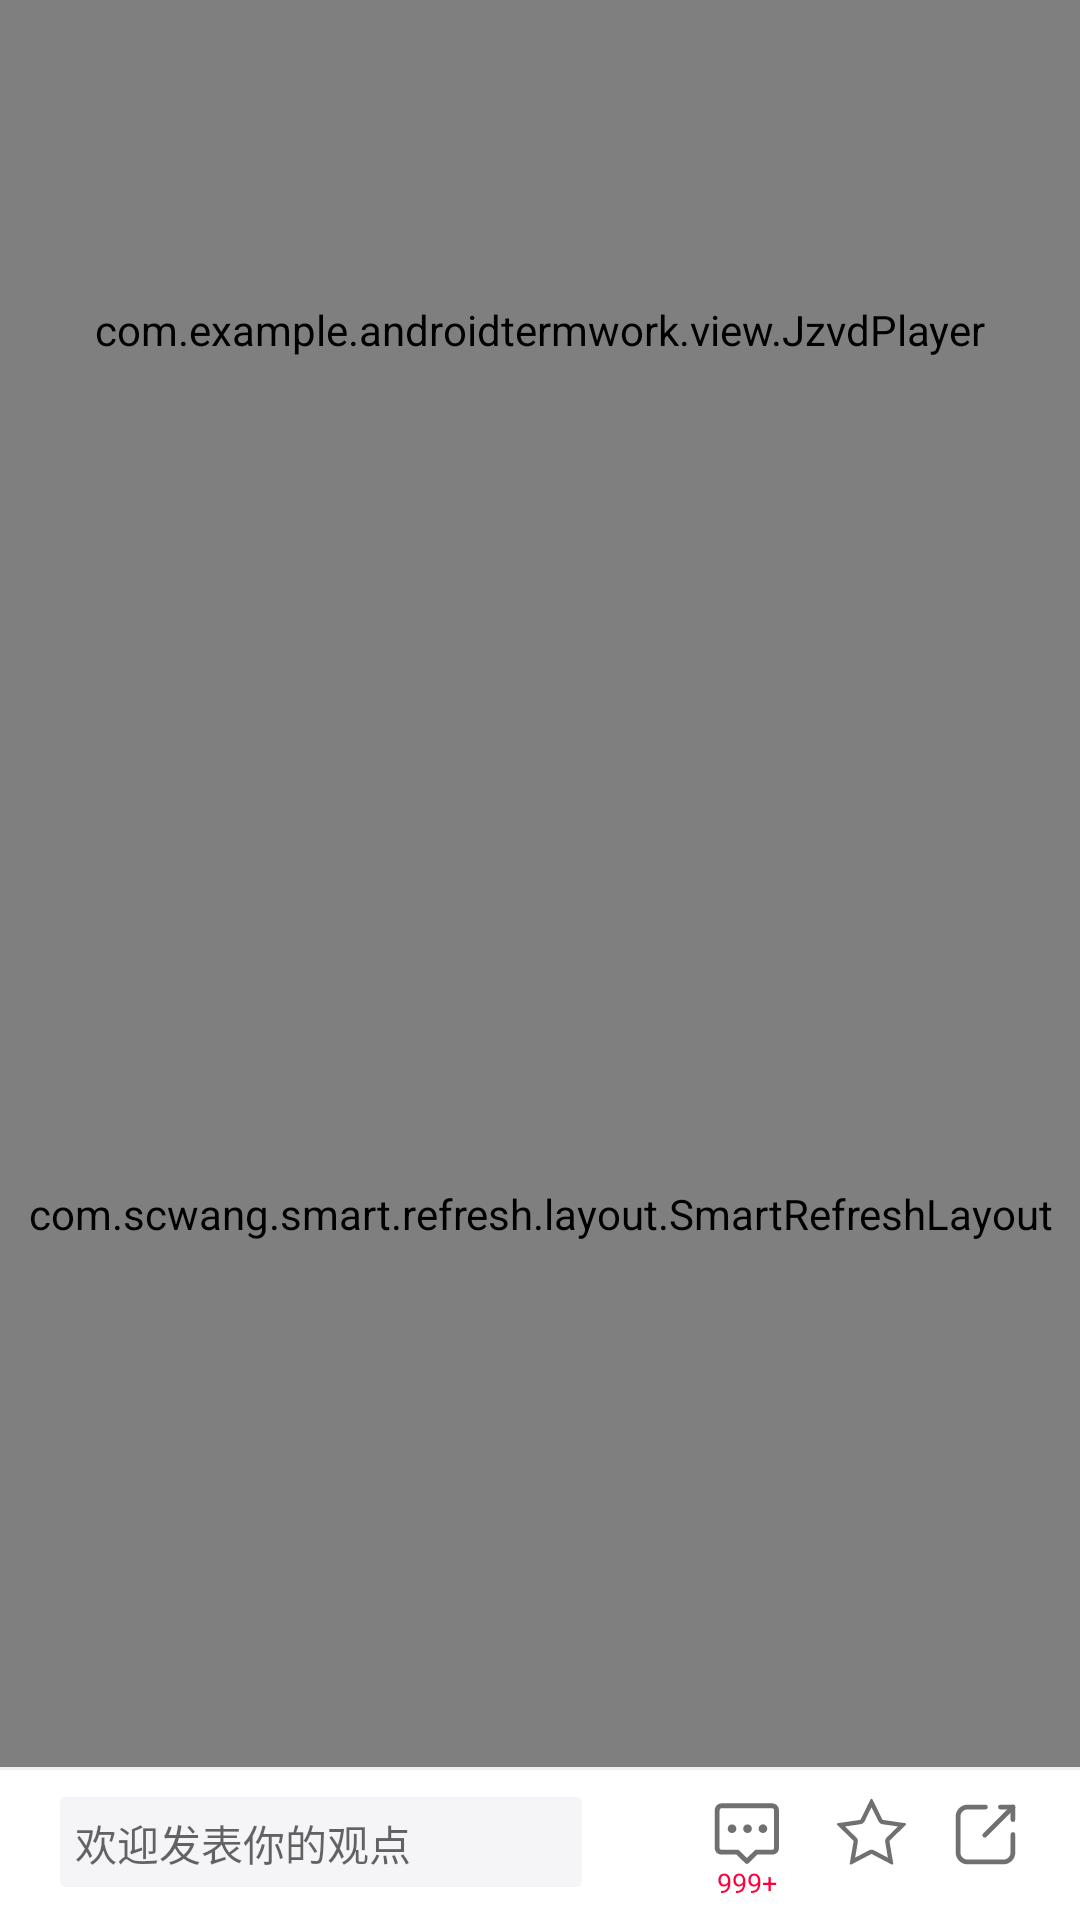

Screen size 1080 × 1920. Icon name, then its center in pixels as (x,y):
collect star: (871,1832)
comments: (746,1833)
share: (985,1834)
